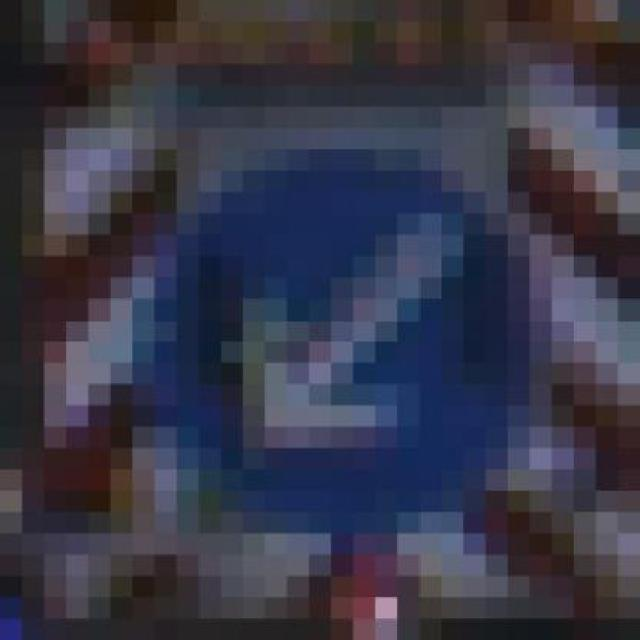Keep-Left: (154, 128, 574, 534)
